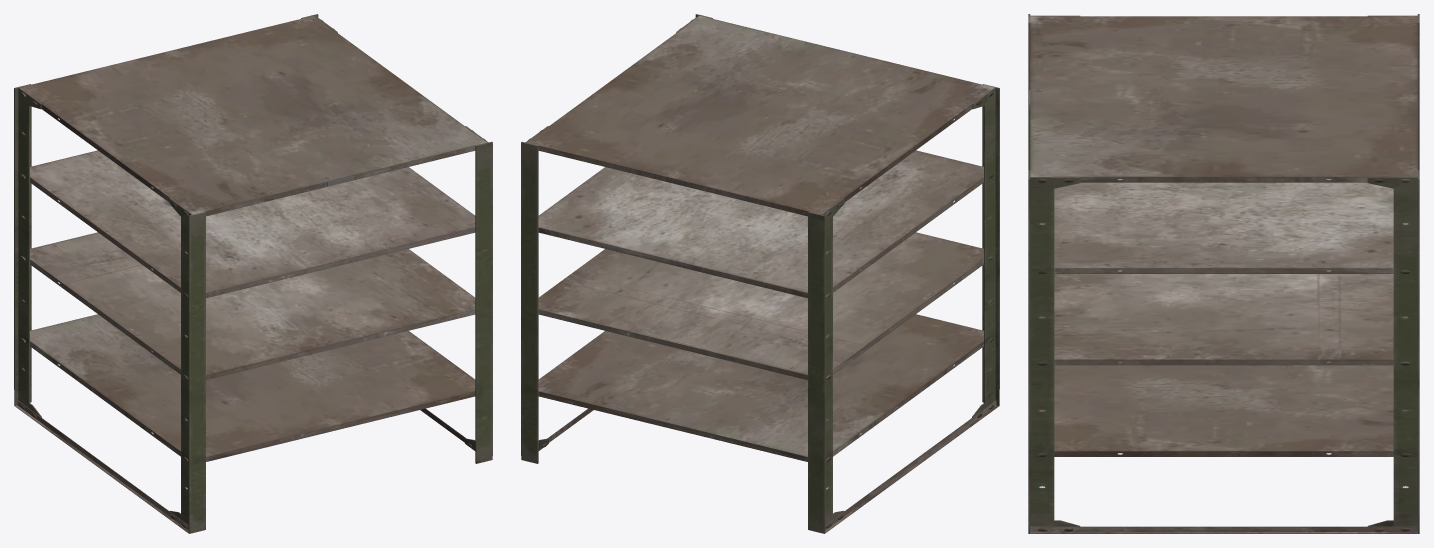
Rendered from ph-worn-metal-rack.glb.
3 views of the same model, side by side, from view 1: azimuth 30°, elevation 25°; view 2: azimuth 150°, elevation 25°; view 3: azimuth 270°, elevation 25° (orthographic). The views are drawn at different scales.
Parts seen in each view (by area): view 1: worn_metal_rack; view 2: worn_metal_rack; view 3: worn_metal_rack.
Boxes of the visible parts, bbox=[...] form: worn_metal_rack: bbox=[14, 14, 492, 533]; worn_metal_rack: bbox=[521, 14, 999, 533]; worn_metal_rack: bbox=[1028, 14, 1419, 533].
Bounding box in the file's own units: 1 × 1 × 1.
Materials: 1 (1 with a texture image).
